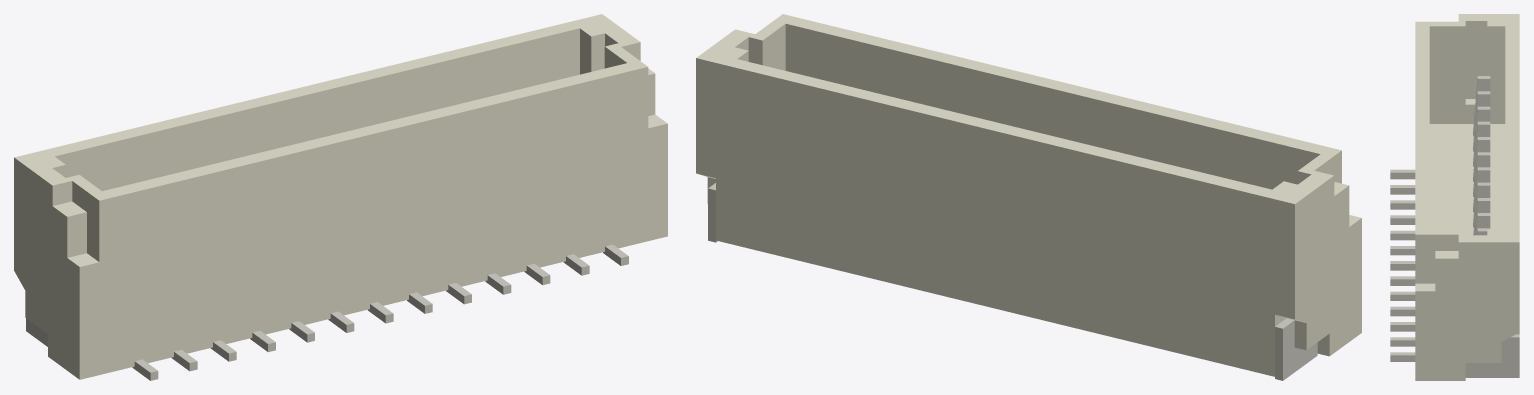
Rendered from kc-jst_sh_bm13b-srss-tb_1x13-1mp_p1.00mm_vertical.glb.
3 views of the same model, side by side, from view 1: azimuth 30°, elevation 25°; view 2: azimuth 150°, elevation 25°; view 3: azimuth 270°, elevation 25° (orthographic). The views are drawn at different scales.
Visible parts, largest first — view 1: 0.75_0.75_0.6666666666666666_0, 0.6666666666666666_0.6666666666666666_0.5833333333333334_0.8; view 2: 0.75_0.75_0.6666666666666666_0, 0.6666666666666666_0.6666666666666666_0.5833333333333334_0.8; view 3: 0.75_0.75_0.6666666666666666_0, 0.6666666666666666_0.6666666666666666_0.5833333333333334_0.8.
Part boxes in pixels (x1,y1,x2,y2): 0.75_0.75_0.6666666666666666_0: [14, 14, 667, 379]; 0.6666666666666666_0.6666666666666666_0.5833333333333334_0.8: [26, 244, 628, 380]; 0.75_0.75_0.6666666666666666_0: [696, 14, 1361, 376]; 0.6666666666666666_0.6666666666666666_0.5833333333333334_0.8: [708, 183, 1317, 380]; 0.75_0.75_0.6666666666666666_0: [1415, 14, 1519, 380]; 0.6666666666666666_0.6666666666666666_0.5833333333333334_0.8: [1390, 76, 1519, 377].
Size of the model in its own units: 1.5 by 0.432 by 0.3601.
